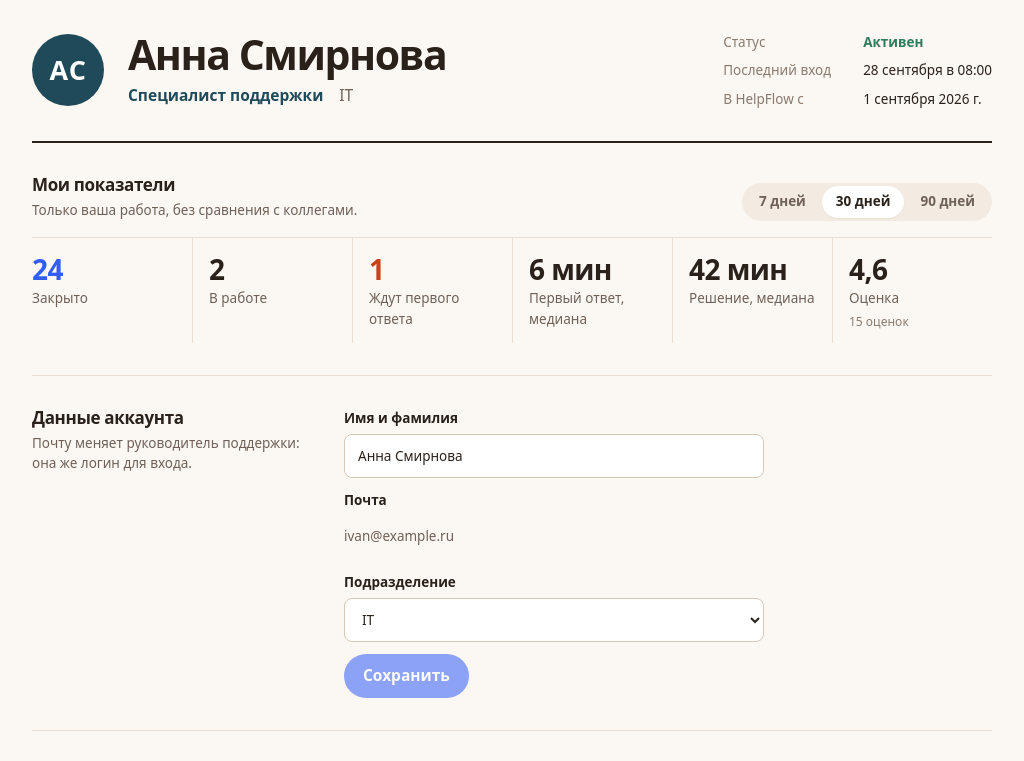
Test: ProfilePage › shows a specialist their own metrics and switches the period
The image size is (1024, 761).
Expected: the text "24" is shown, [32, 250, 63, 288]
Expected: the text "Закрыто" is shown, [32, 289, 88, 307]
Step 1. Click the button "7 дней" → point(782, 202), box [745, 186, 820, 218]
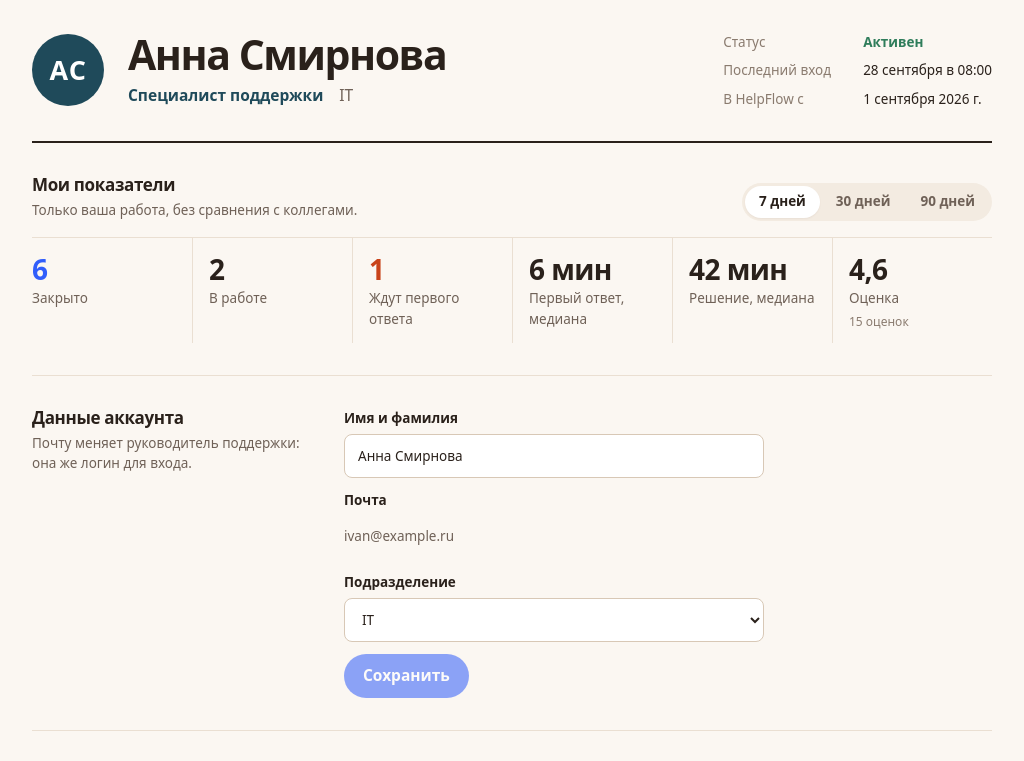
Result: the text "6" is shown at [32, 250, 48, 288]
